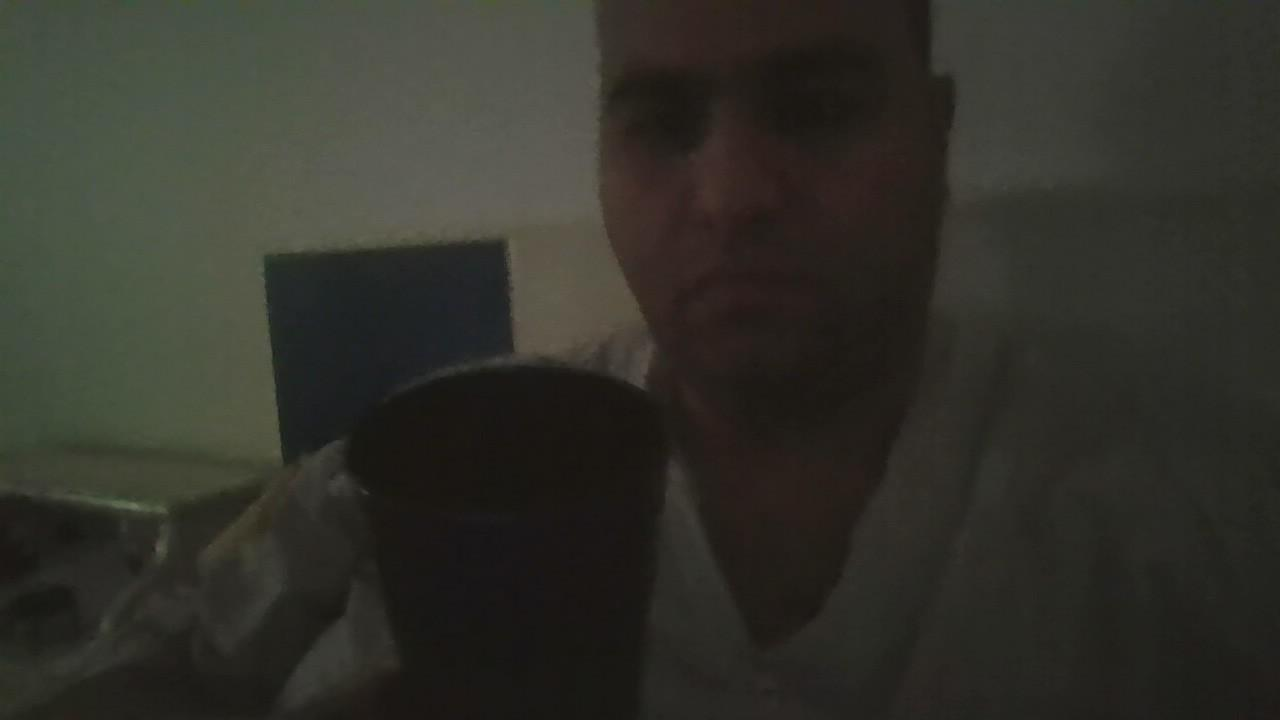cup: (346, 361, 667, 719)
